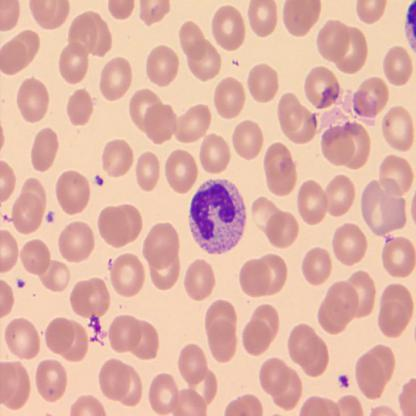Band Neutrophil: (187, 177, 248, 258)
